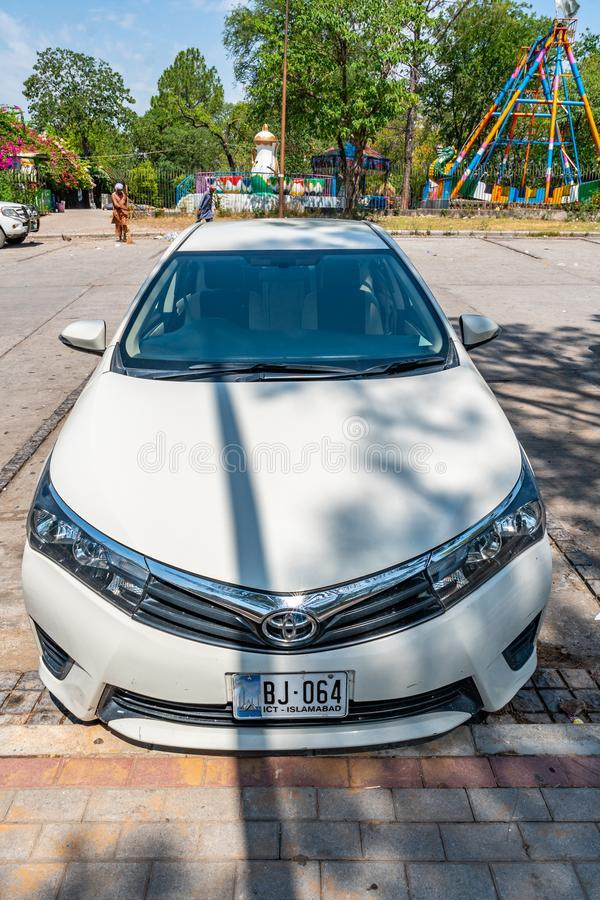windshield: (108, 235, 470, 375)
